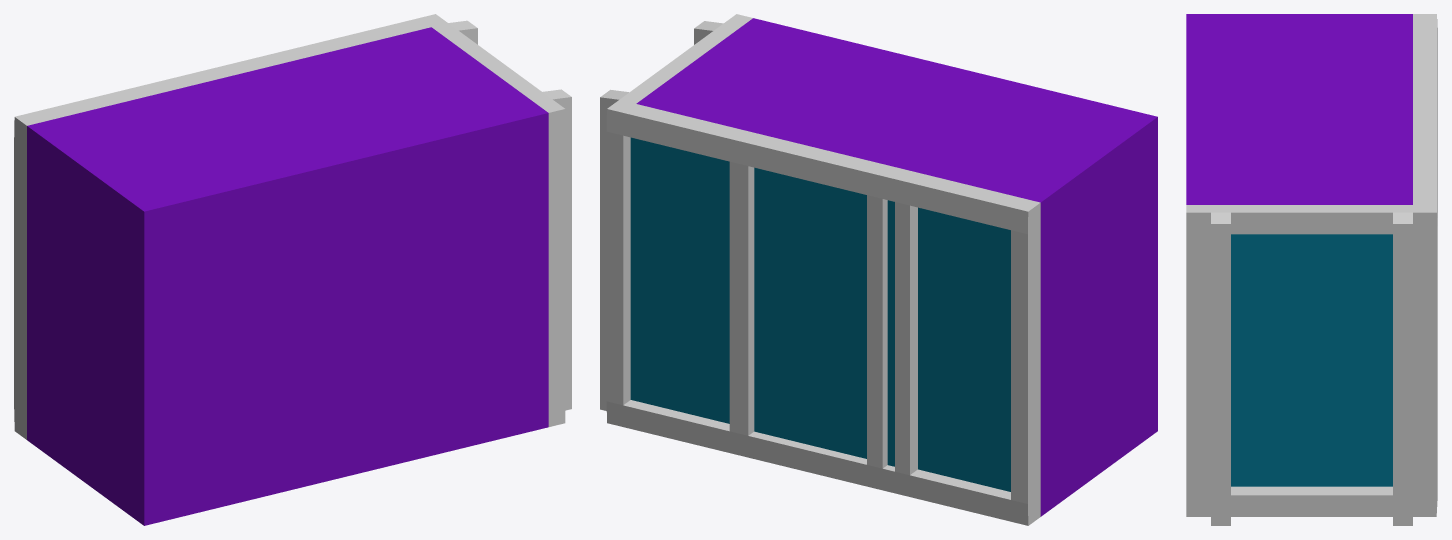
File: Window03_low.fbx
3 renders of one model, left to right at view 1: azimuth 30°, elevation 25°; view 2: azimuth 150°, elevation 25°; view 3: azimuth 270°, elevation 25°, orthographic. The views are drawn at different scales.
Parts seen in each view (by area): view 1: Window03_low; view 2: Window03_low; view 3: Window03_low.
Boxes of the visible parts, box(x1,y1,x2,y2) form: Window03_low: box(14, 14, 571, 525); Window03_low: box(600, 14, 1157, 525); Window03_low: box(1186, 14, 1437, 525).
Size of the model in its own units: 41.15 by 21.04 by 28.06.
